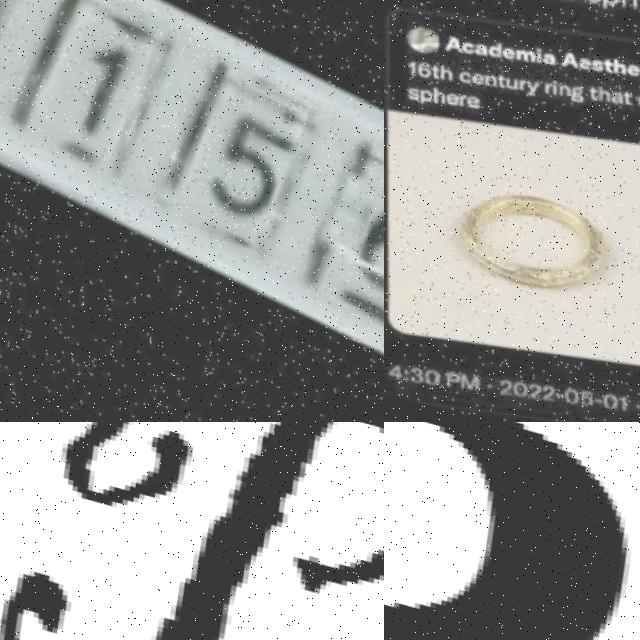0: (413, 365, 433, 385), (500, 376, 520, 396), (552, 381, 572, 401), (590, 386, 610, 406)
1: (39, 8, 147, 150), (605, 389, 619, 407), (401, 59, 413, 75)
2: (515, 378, 535, 398), (487, 373, 506, 393), (529, 380, 548, 400)
3: (397, 363, 417, 383)
4: (384, 361, 393, 379)
5: (183, 90, 304, 238), (567, 383, 587, 403)
6: (322, 155, 384, 306), (408, 57, 428, 79)
B: (384, 422, 617, 640)
